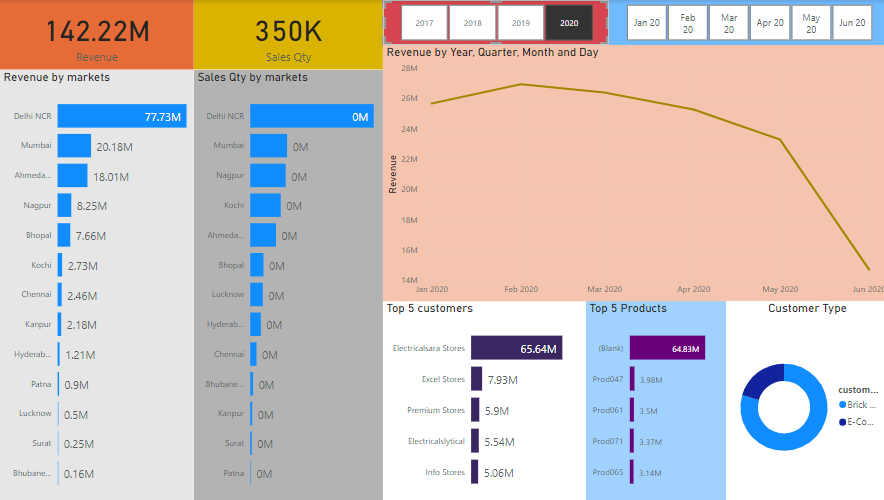

What the dashboard file says about the page in this screenshot:
{"tool":"powerbi","page":{"name":"Sales_insight","canvas":[1280,720],"ordinal":0},"visuals":[{"type":"card","fields":{"Values":["BaseMeasures.Revenue"]},"box":[0,0,279.3,100.4],"z":0},{"type":"card","fields":{"Values":["BaseMeasures.Sales Qty"]},"box":[279.3,0,272,100.4],"z":1000},{"type":"barChart","title":"Revenue by markets","fields":{"Y":["BaseMeasures.Revenue"],"Category":["sales markets.markets_name"]},"box":[0,100.4,279.3,619.6],"z":2000},{"type":"barChart","title":"Sales Qty by markets","fields":{"Y":["BaseMeasures.Sales Qty"],"Category":["sales markets.markets_name"]},"box":[279.3,100.4,272,619.6],"z":3000},{"type":"slicer","fields":{"Values":["sales date.year"]},"box":[551.3,0,325.8,65.5],"z":4000},{"type":"slicer","fields":{"Values":["sales date.cy_date"]},"box":[877.1,0,402.9,65.5],"z":5000},{"type":"barChart","title":"Top 5 customers","fields":{"Y":["BaseMeasures.Revenue"],"Category":["sales customers.custmer_name"]},"box":[551.5,433.4,292.3,286.6],"z":6000},{"type":"barChart","title":"Top 5 Products","fields":{"Y":["BaseMeasures.Revenue"],"Category":["sales products.product_code"]},"box":[843.8,433.4,201.6,286.6],"z":7000},{"type":"lineChart","fields":{"Y":["BaseMeasures.Revenue"],"Category":["sales date.cy_date.Variation.Date Hierarchy.Year","sales date.cy_date.Variation.Date Hierarchy.Quarter","sales date.cy_date.Variation.Date Hierarchy.Month","sales date.cy_date.Variation.Date Hierarchy.Day"]},"box":[551.5,64.8,728.6,368.6],"z":8000},{"type":"donutChart","title":"Customer Type","fields":{"Category":["sales customers.customer_type"],"Y":["BaseMeasures.Revenue"]},"box":[1045.4,433.4,234.7,286.6],"z":8001}]}

Visuals, with their boxes in screenshot pixels (x1, y1, x2, y2), scaled from the page's 1280x720 canvas onto the 884x500 screenshot:
card - BaseMeasures.Revenue: bbox=(0, 0, 193, 70)
card - BaseMeasures.Sales Qty: bbox=(193, 0, 381, 70)
"Revenue by markets" barChart: bbox=(0, 70, 193, 499)
"Sales Qty by markets" barChart: bbox=(193, 70, 381, 499)
slicer - sales date.year: bbox=(381, 0, 606, 45)
slicer - sales date.cy_date: bbox=(606, 0, 883, 45)
"Top 5 customers" barChart: bbox=(381, 301, 583, 499)
"Top 5 Products" barChart: bbox=(583, 301, 722, 499)
lineChart - BaseMeasures.Revenue x sales date.cy_date.Variation.Date Hierarchy.Year: bbox=(381, 45, 883, 301)
"Customer Type" donutChart: bbox=(722, 301, 883, 499)
